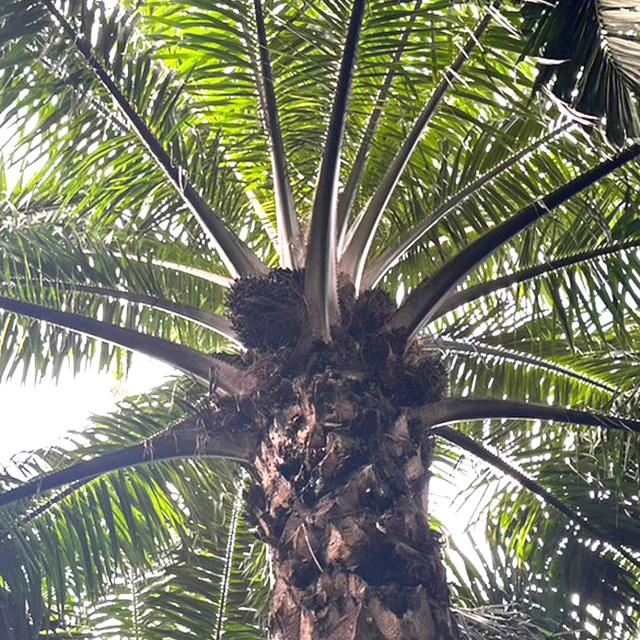almost: (223, 266, 310, 350)
